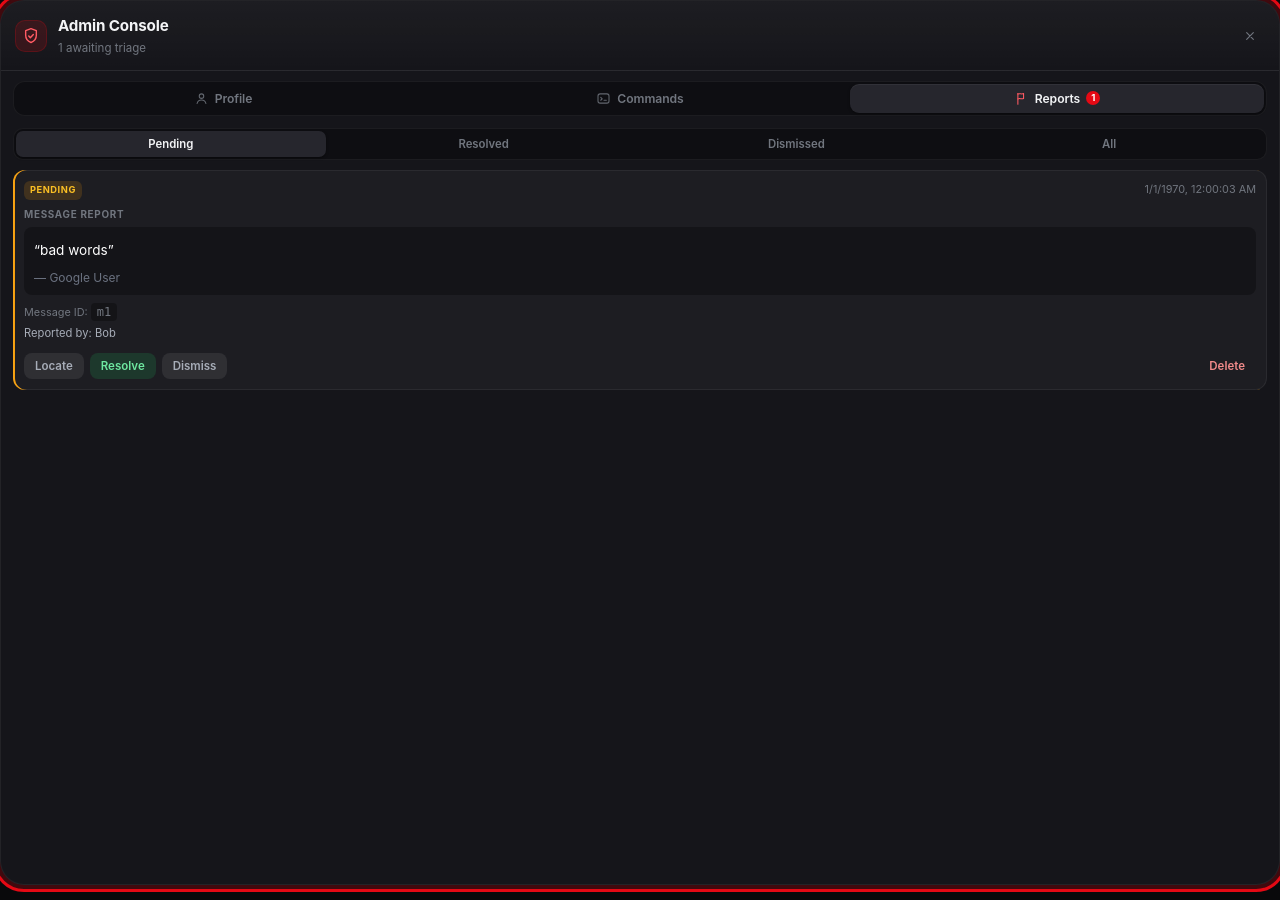
Test: GlobalChatAdminDashboard reports section › switches to resolved and shows the audit trail
The image size is (1280, 900).
Click the button "Resolved" at point(484, 144), box [329,131,639,157]
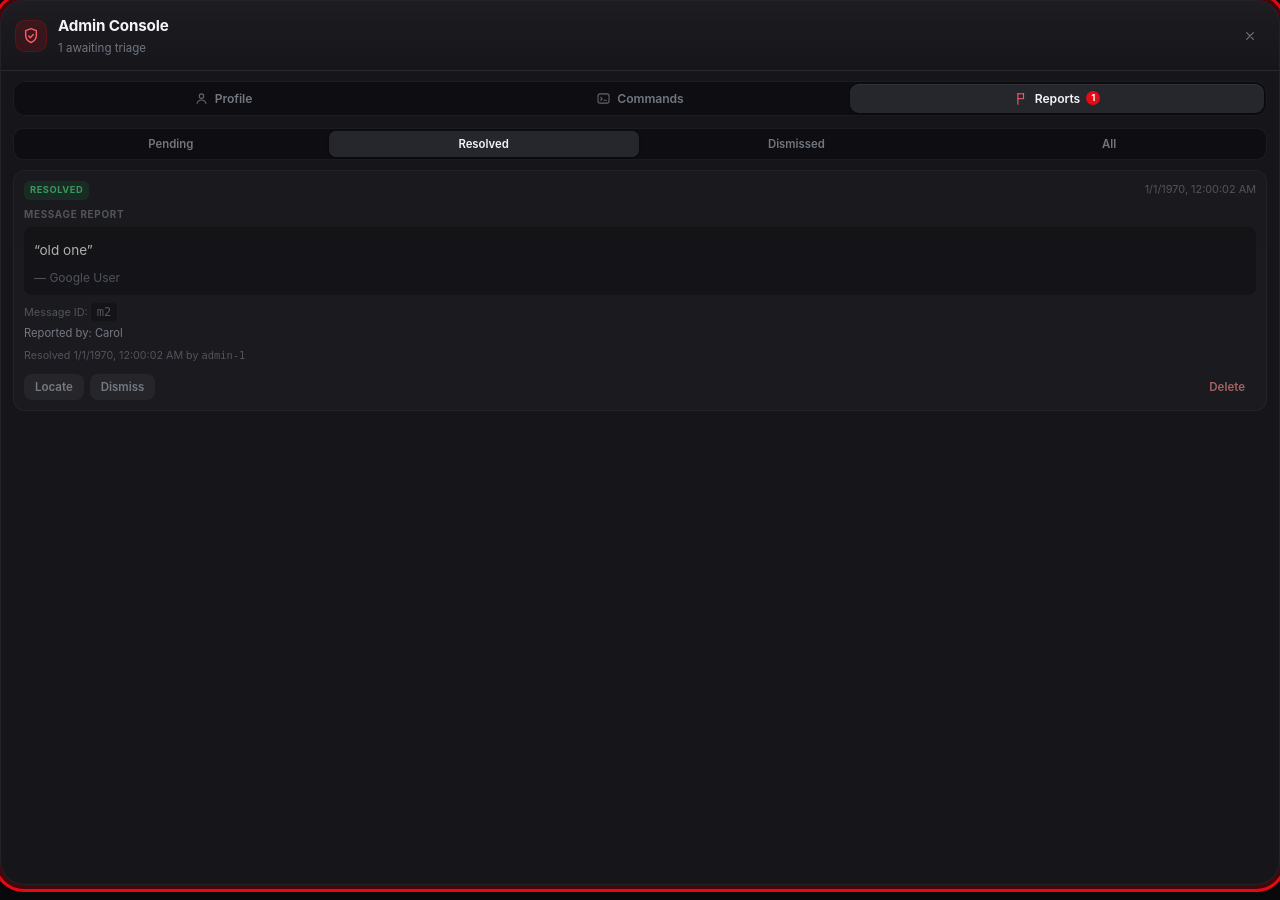
Check: the text "“old one”" is shown, box [34,242,93,258]
Check: the text "Resolved 1/1/1970, 12:00:02 AM by admin-1" is shown, box [24,349,245,362]
Check: the text "admin-1" is shown, box [202,349,245,361]
